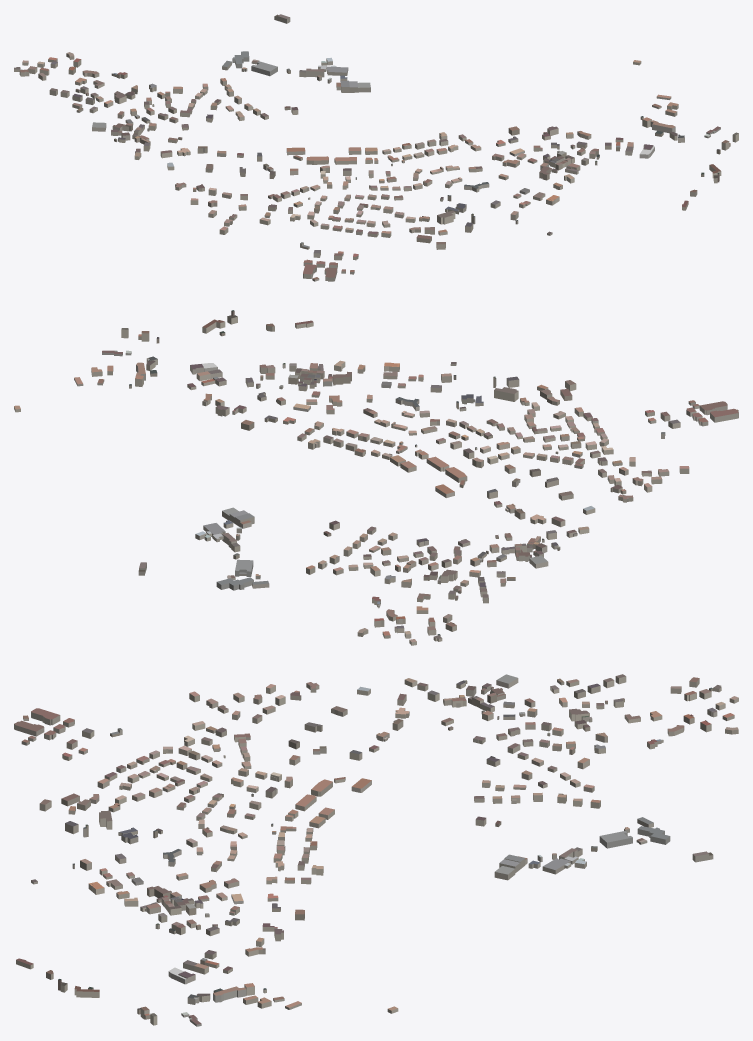
3 renders of one model, top to bottom at view 1: azimuth 30°, elevation 25°; view 2: azimuth 150°, elevation 25°; view 3: azimuth 270°, elevation 25°, orthographic. The views are drawn at different scales.
Parts seen in each view (by area): view 1: tuile; view 2: tuile; view 3: tuile.
Boxes of the visible parts, x1,y1,x2,y2 form: tuile: (14,14,738,281); tuile: (14,310,738,645); tuile: (14,674,738,1026).
Bounding box in the file's own units: 1013 × 76.04 × 1003.
